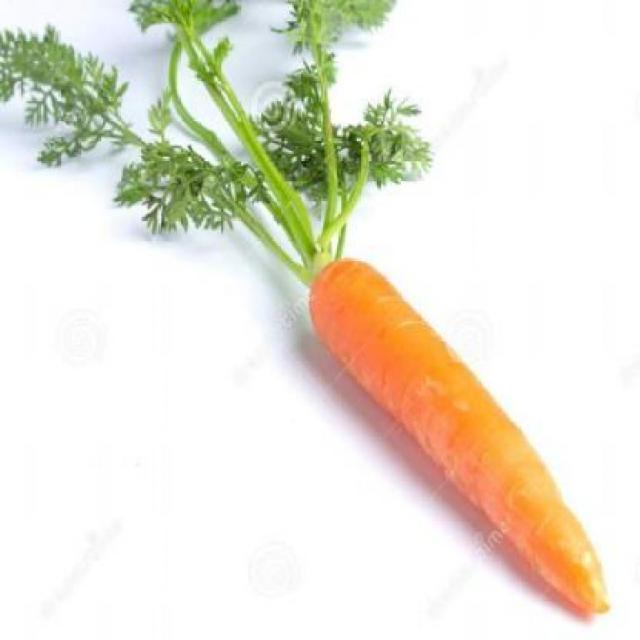carrot: (287, 238, 621, 626)
